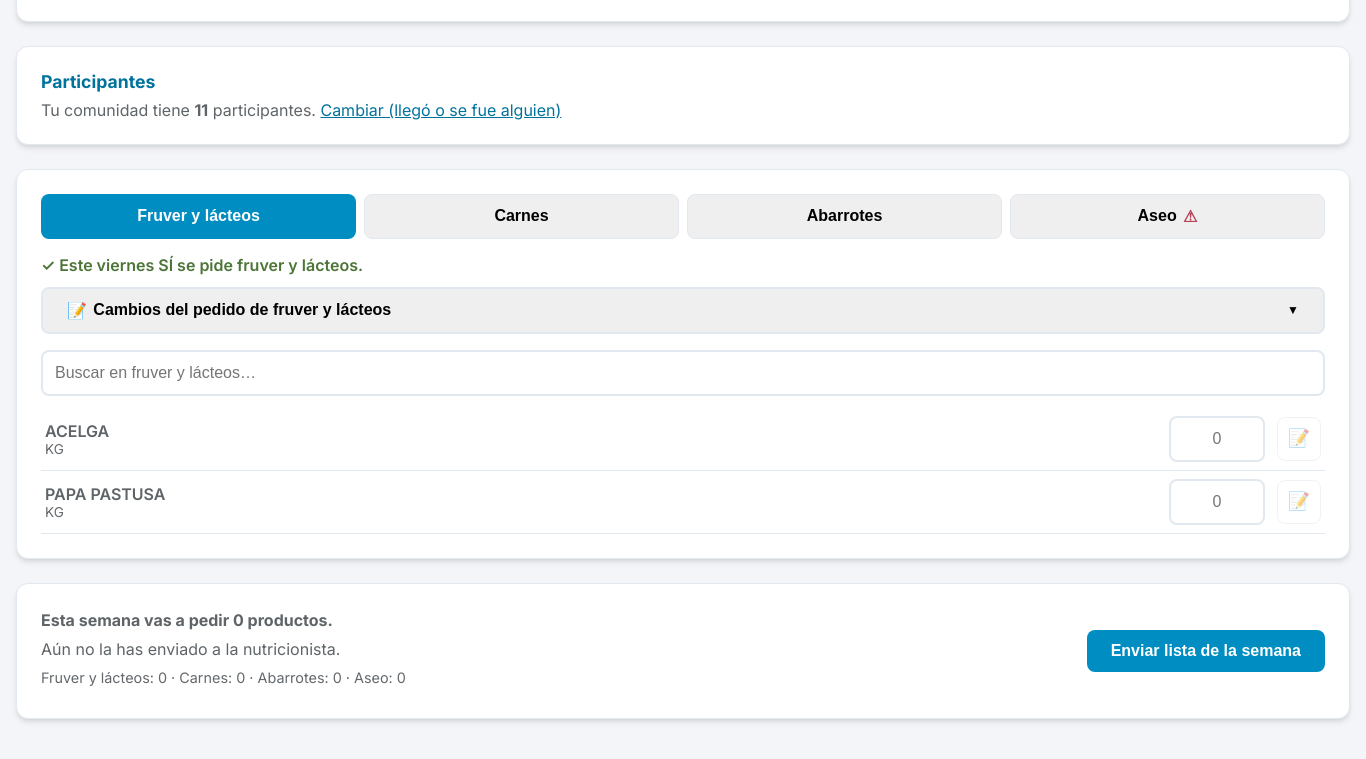
zona de cambios: el 📝 de cada producto › abre la zona con ese producto elegido y el cursor en el campo de texto
The width and height of the screenshot is (1366, 759).
(page scrolled)
What coordinates should you click on to do the following:
click the button named "Agregar un cambio"
I would click on:
 (1299, 502)
Its box is [1277,480,1321,524].
(page scrolled)
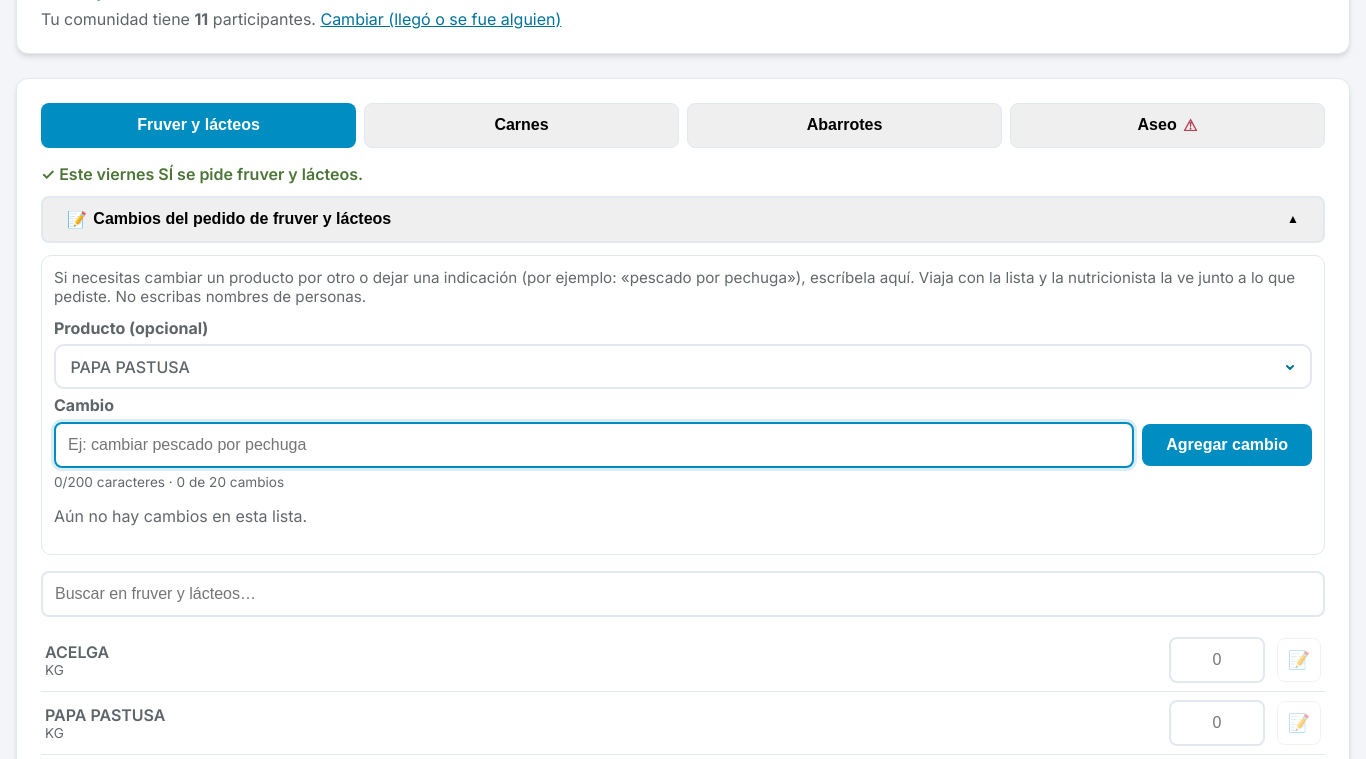
Expected: the button named "Producto (opcional)" reads "PAPA PASTUSA", [54,344,1312,389]
